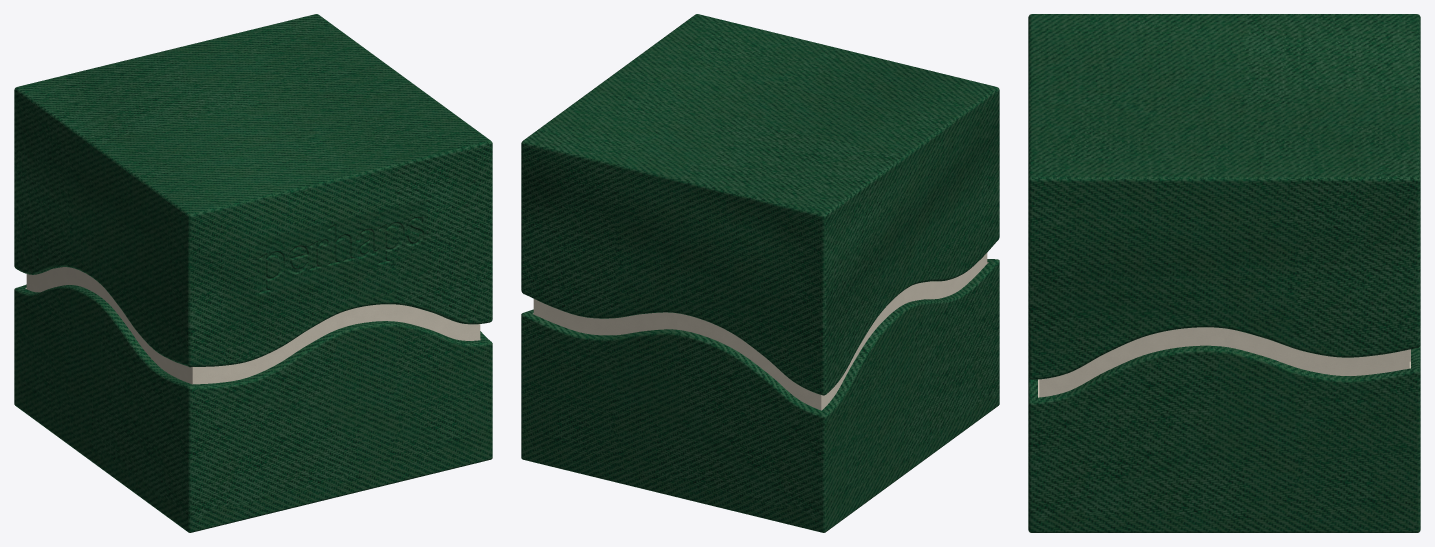
The model's file is wave-v002.glb.
3 renders of one model, left to right at view 1: azimuth 30°, elevation 25°; view 2: azimuth 150°, elevation 25°; view 3: azimuth 270°, elevation 25°, orthographic. The views are drawn at different scales.
Parts seen in each view (by area): view 1: Box | Lid, Box | Base, Box | Lid | stamp, Box | Collar; view 2: Box | Lid, Box | Base, Box | Collar; view 3: Box | Lid, Box | Base, Box | Collar.
Boxes of the visible parts, x1,y1,x2,y2 form: Box | Lid: [14, 14, 492, 367]; Box | Base: [14, 284, 492, 532]; Box | Lid | stamp: [256, 199, 426, 296]; Box | Collar: [26, 267, 480, 384]; Box | Lid: [521, 14, 999, 395]; Box | Base: [521, 259, 999, 532]; Box | Collar: [533, 253, 987, 410]; Box | Lid: [1028, 14, 1420, 379]; Box | Base: [1028, 345, 1420, 532]; Box | Collar: [1039, 327, 1409, 397].
Size of the model in its own units: 0.1 by 0.1 by 0.1.
2 materials, 2 textured.
